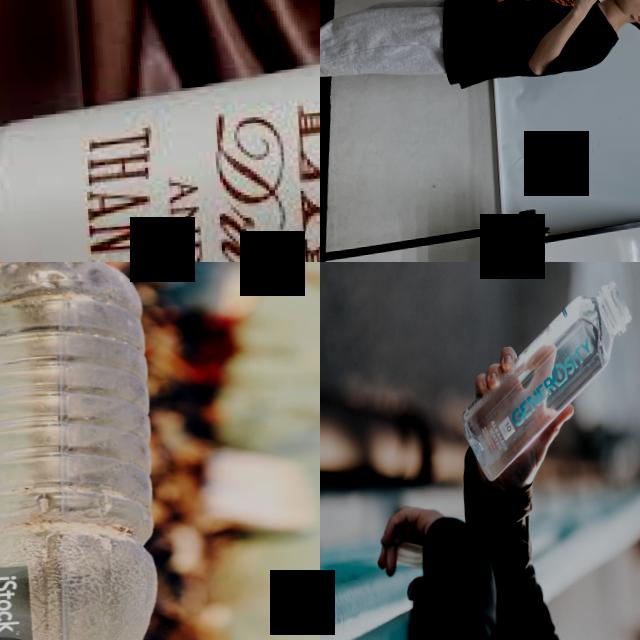bottle: (450, 278, 640, 484)
cup: (0, 0, 320, 262)
